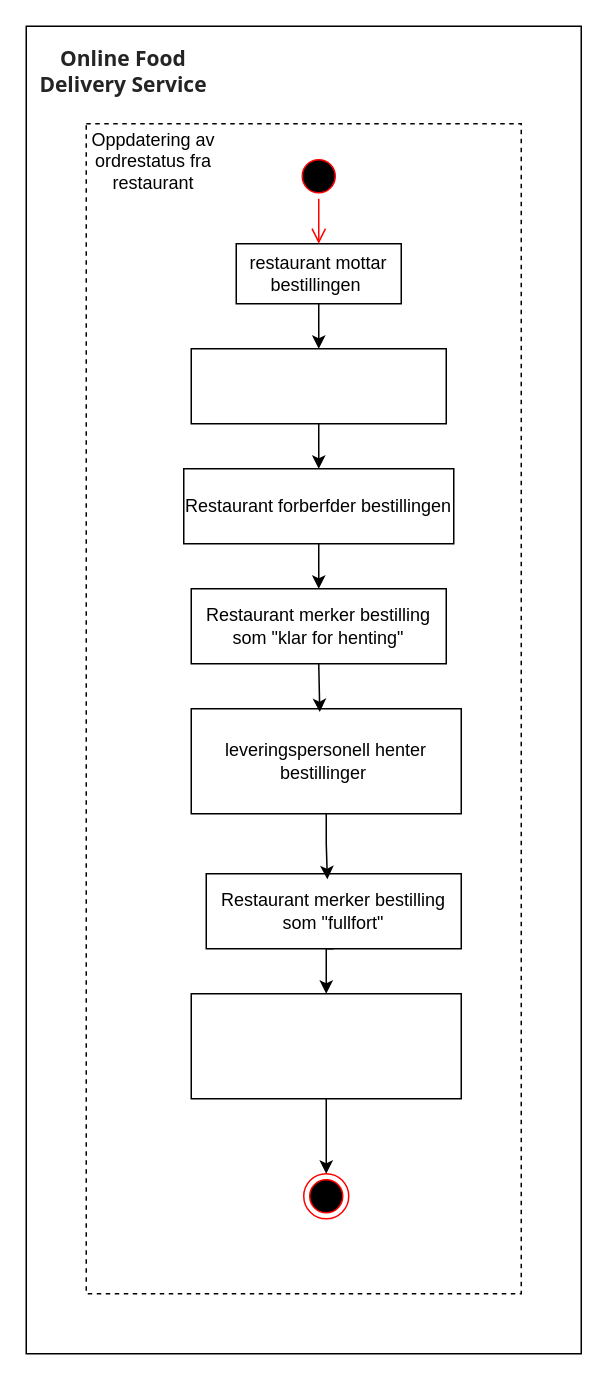
Some shapes in this 608 by 1380 pixel diagram are drawn without their labels. Each missing label, with the centre of its shape:
Restaurant merker bestilling som "under forberdelse": point (318, 385)
Systemet oppdaterer orderstatusen: point (325, 1045)
